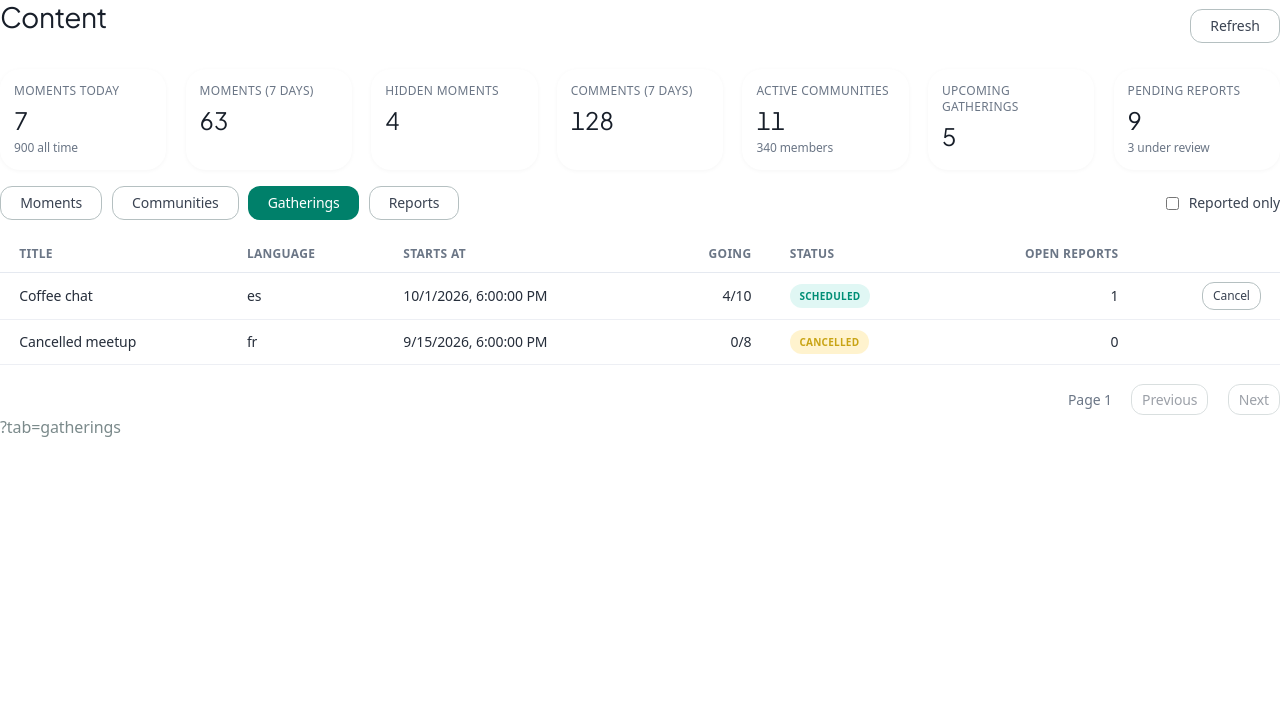
Scenario: keeps the gathering cancel action
Click the button "Cancel" at (1231, 296), box [1202,282,1261,310]
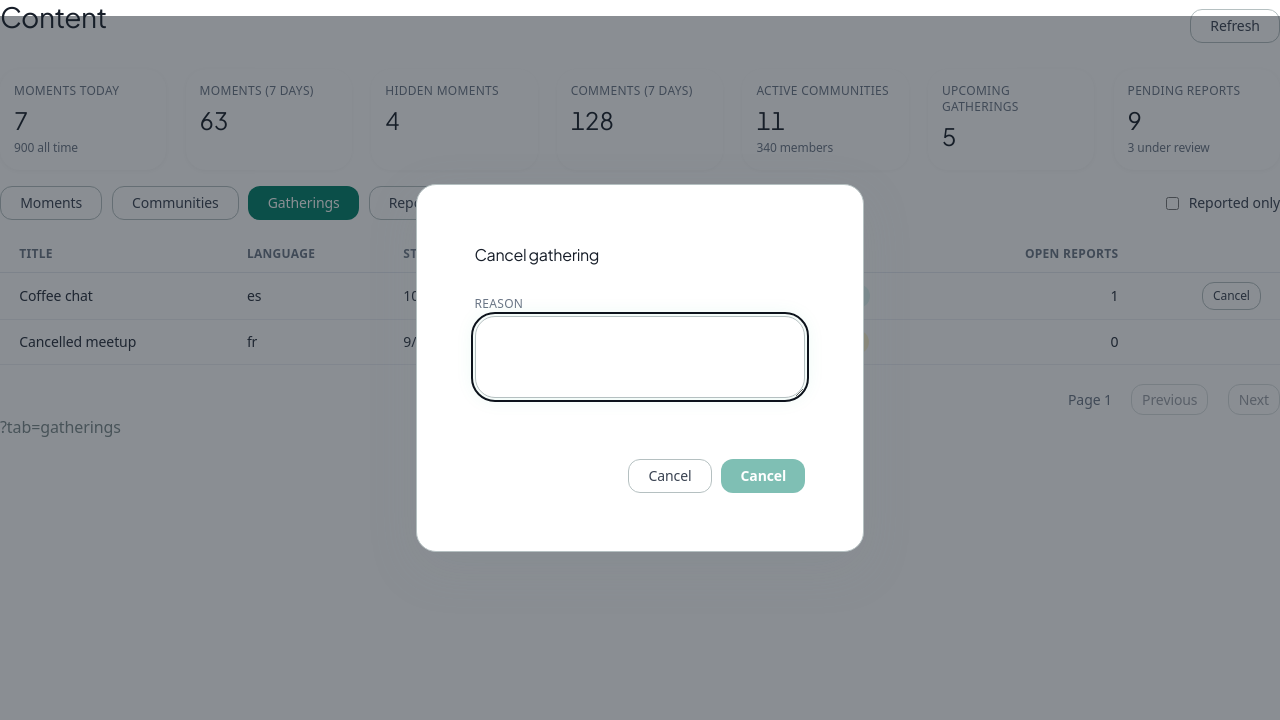
Type "abuse" into the text box with test id "confirm-dialog-reason" at (640, 357), box [475,316,805,398]
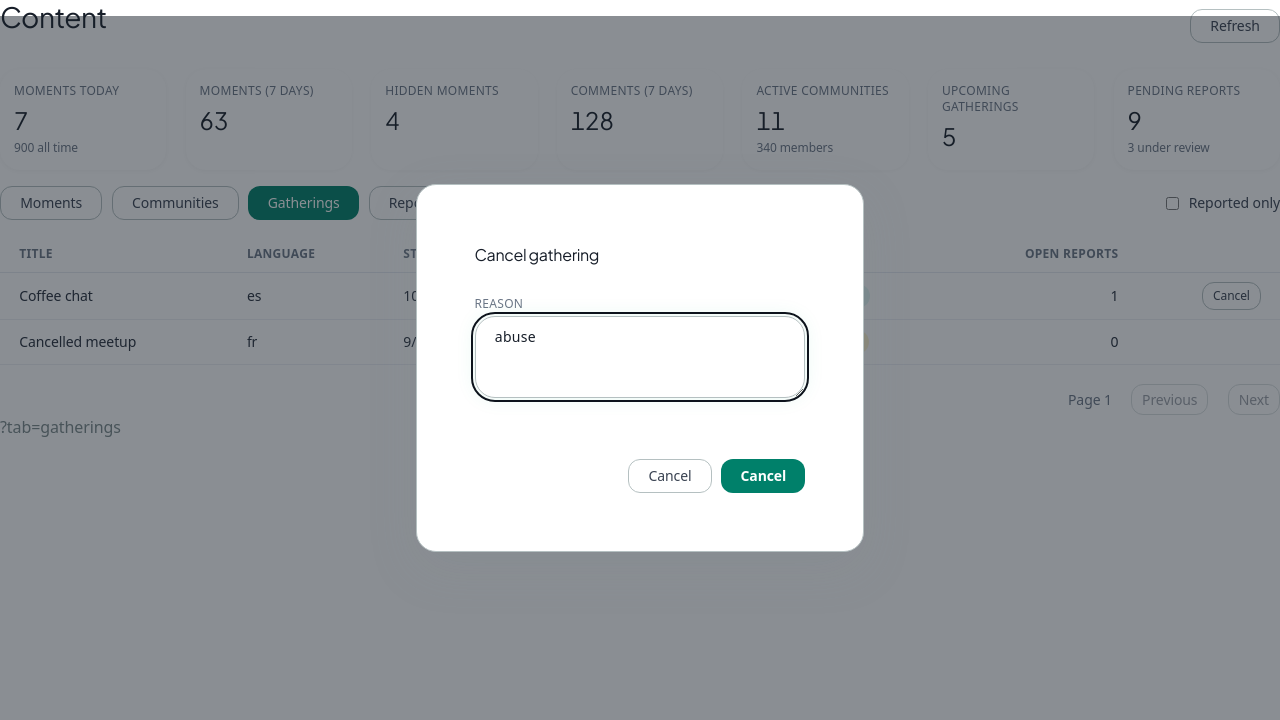
Click the button with test id "confirm-dialog-confirm" at (763, 476), box [721,459,805,493]
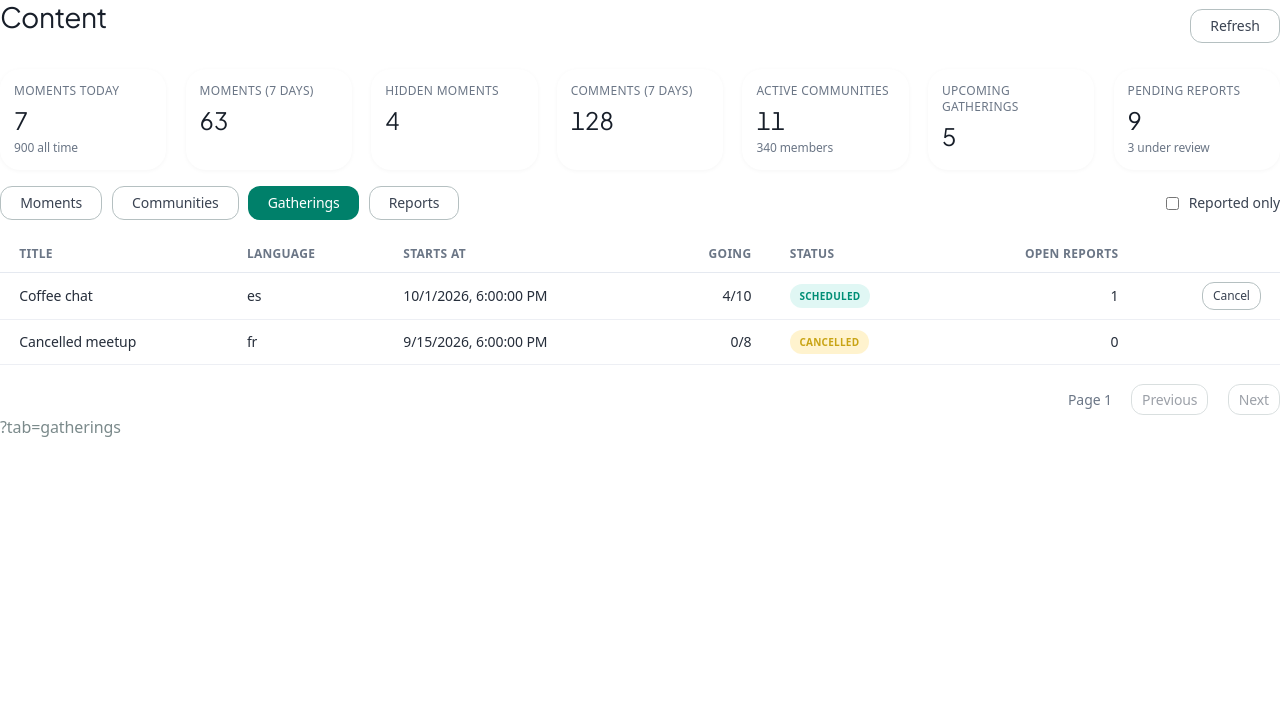
Expected: the dialog with test id "confirm-dialog" is gone
